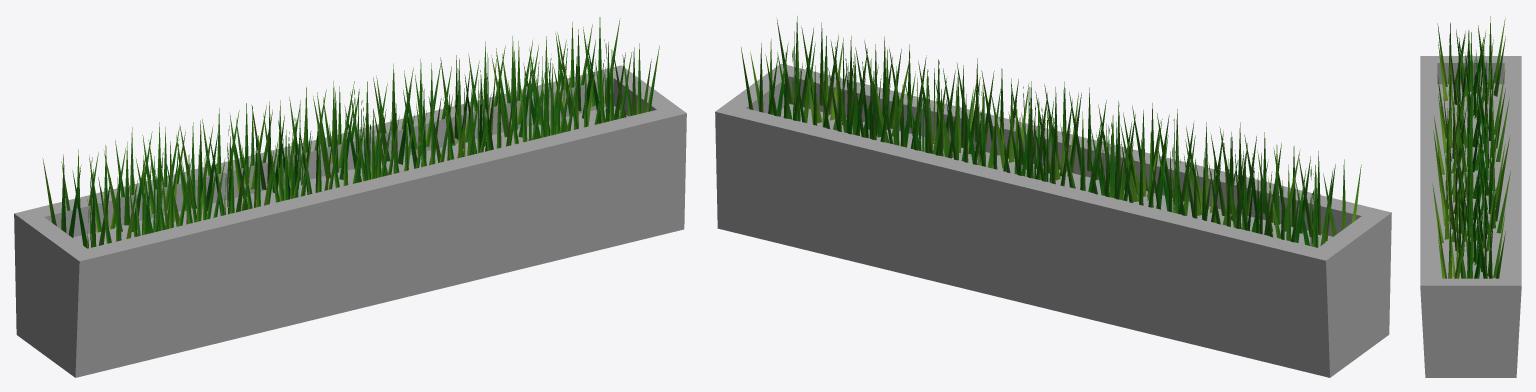
The model's file is grass_boxplanter.fbx.
3 renders of one model, left to right at view 1: azimuth 30°, elevation 25°; view 2: azimuth 150°, elevation 25°; view 3: azimuth 270°, elevation 25°, orthographic. The views are drawn at different scales.
Visible parts, largest first — view 1: grassboxplanter, grassbladepoly; view 2: grassboxplanter, grassbladepoly; view 3: grassboxplanter, grassbladepoly.
Boxes of the visible parts, x1,y1,x2,y2 form: grassboxplanter: [14, 65, 686, 377]; grassbladepoly: [42, 17, 659, 248]; grassboxplanter: [715, 63, 1391, 377]; grassbladepoly: [741, 16, 1361, 247]; grassboxplanter: [1420, 56, 1521, 377]; grassbladepoly: [1432, 16, 1510, 278].
Size of the model in its own units: 274 by 80.46 by 51.05.
Materials: 3 (1 with a texture image).
